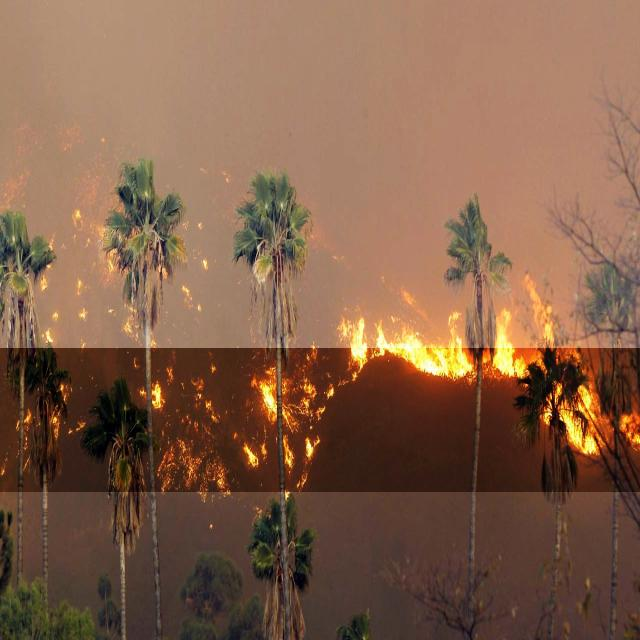Fire: (0, 216, 640, 492)
Smoke: (0, 0, 640, 348)
